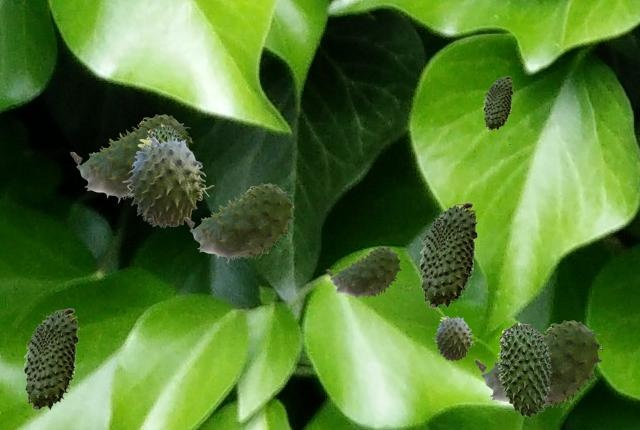guyabano: (474, 320, 602, 408), (70, 114, 192, 202), (184, 183, 294, 262), (122, 135, 213, 227), (419, 202, 477, 307), (23, 308, 78, 409), (497, 321, 551, 417), (326, 246, 401, 299), (432, 315, 476, 360), (483, 76, 512, 129), (145, 123, 187, 146)
